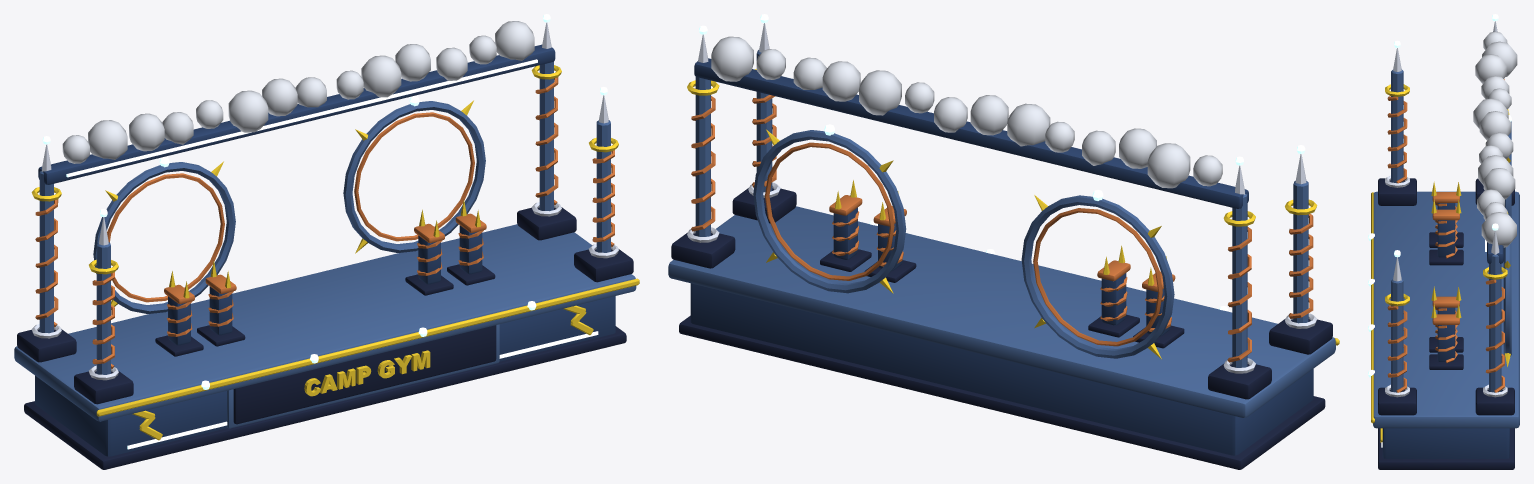
The model's file is st_12_storm.glb.
3 views of the same model, side by side, from view 1: azimuth 30°, elevation 25°; view 2: azimuth 150°, elevation 25°; view 3: azimuth 270°, elevation 25° (orthographic). The views are drawn at different scales.
Parts seen in each view (by area): view 1: st_12_storm; view 2: st_12_storm; view 3: st_12_storm.
Boxes of the visible parts, box(x1,y1,x2,y2) form: st_12_storm: box(14, 14, 639, 469); st_12_storm: box(668, 14, 1339, 469); st_12_storm: box(1368, 14, 1519, 469).
Size of the model in its own units: 10.98 by 5.46 by 3.1.
